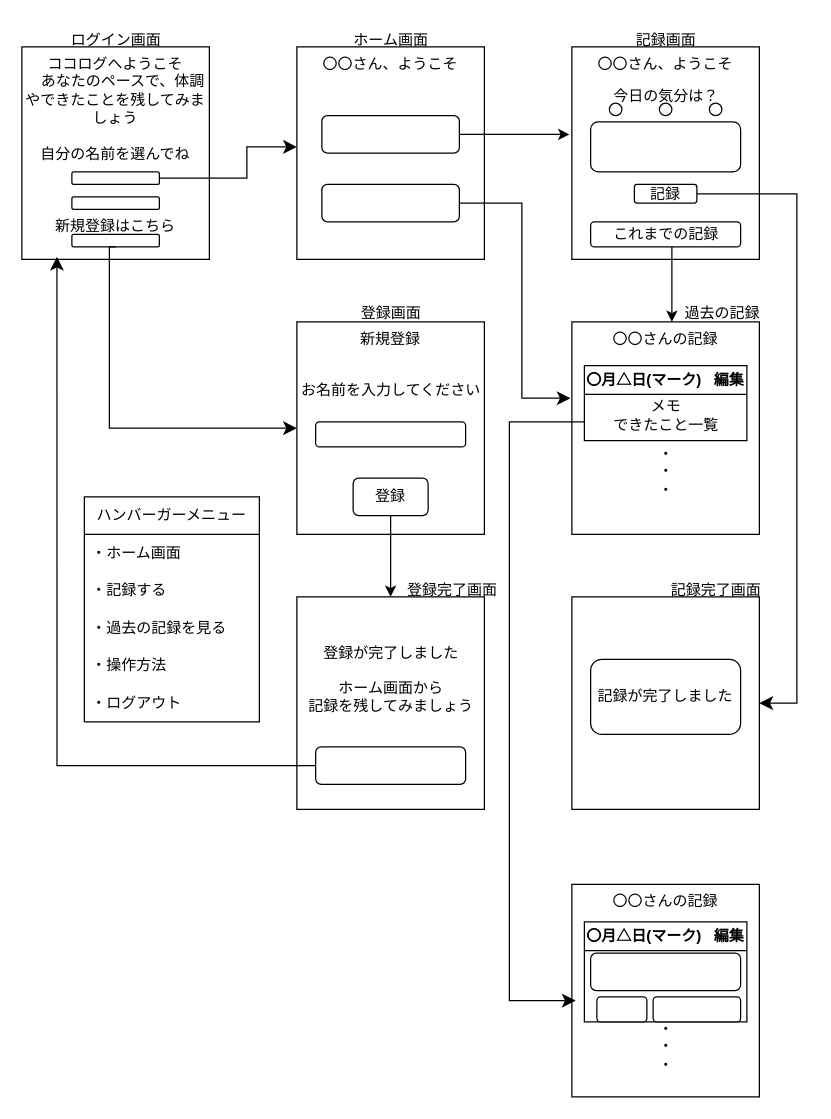
This 831x1119 diagram has some shape labels left out. The shapes that lost their labels are listed below. From the top down, each one's centre as x and y in pixels, then its label:
At (x=390, y=133): "記録する".
At (x=665, y=146): "メモ できたこと".
At (x=390, y=202): "過去の記録を見る".
At (x=390, y=765): "ホーム画面へ".
At (x=621, y=1009): "保存".
At (x=696, y=1009): "キャンセル".
